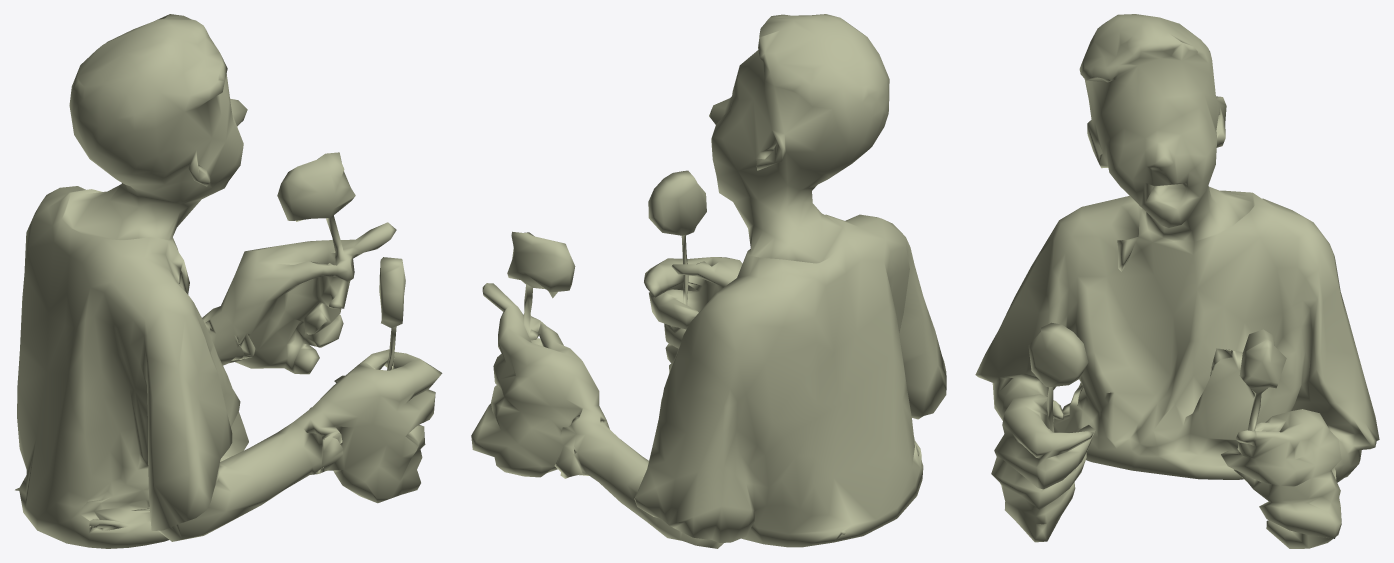
File: statue_of_myself_lod2.obj
3 views of the same model, side by side, from view 1: azimuth 30°, elevation 25°; view 2: azimuth 150°, elevation 25°; view 3: azimuth 270°, elevation 25° (orthographic). The views are drawn at different scales.
Parts seen in each view (by area): view 1: obj_0; view 2: obj_0; view 3: obj_0.
Part boxes in pixels (x1=…): obj_0: x1=15, y1=14, x2=442, y2=548; obj_0: x1=471, y1=14, x2=946, y2=548; obj_0: x1=975, y1=14, x2=1379, y2=548.
Size of the model in its own units: 14.73 by 17.37 by 14.
